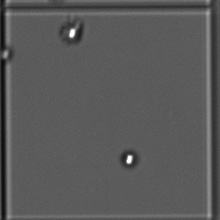Living Cell: (120, 142, 143, 169), (62, 19, 82, 47), (1, 44, 20, 63)
